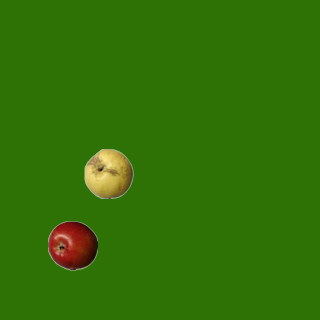Apple Braeburn: (47, 220, 97, 270)
Apple Golden 1: (83, 148, 133, 198)
